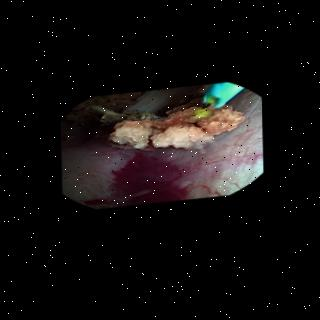laser: (207, 100, 216, 107)
stone: (66, 89, 243, 153)
tissue: (64, 97, 256, 209)
